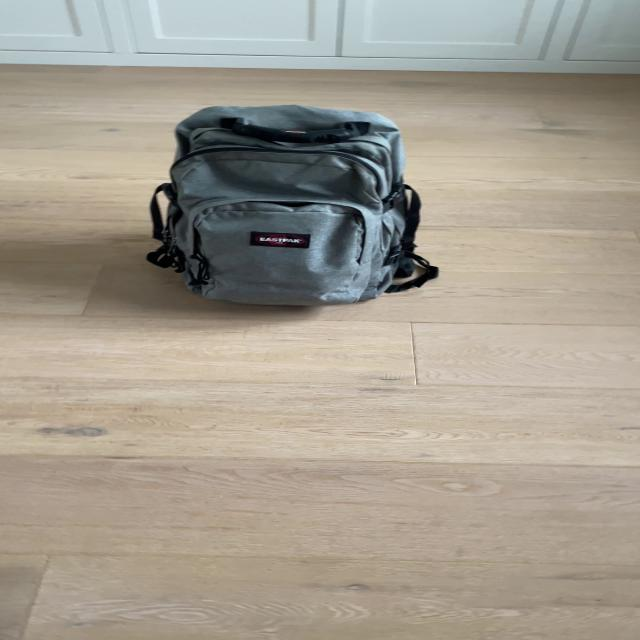backpack: (136, 92, 438, 315)
